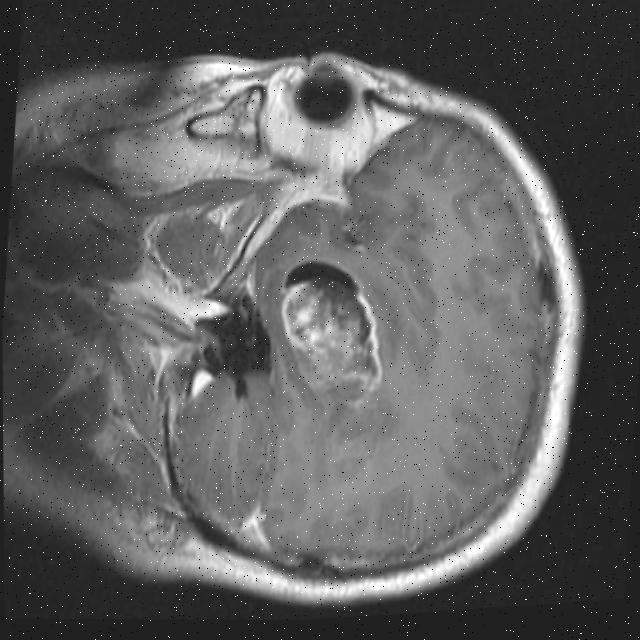Glioma: (271, 251, 393, 414)
